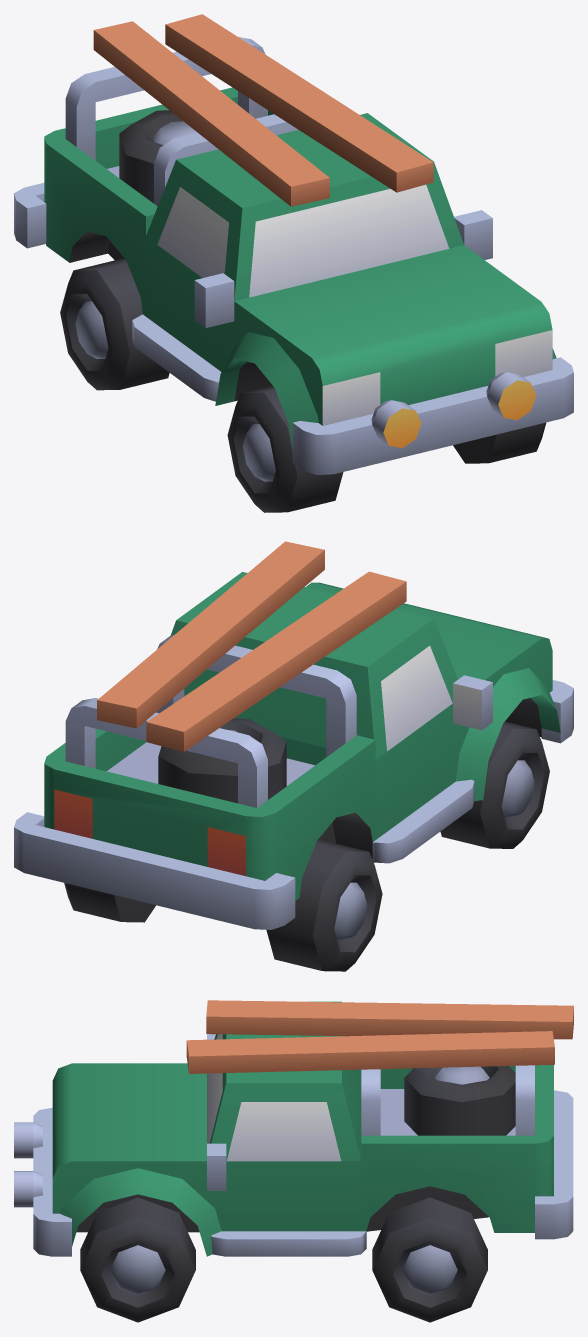
File: truck.glb
3 renders of one model, top to bottom at view 1: azimuth 30°, elevation 25°; view 2: azimuth 150°, elevation 25°; view 3: azimuth 270°, elevation 25°, orthographic. The views are drawn at different scales.
Visible parts, largest first — view 1: underside; view 2: underside; view 3: underside.
Part boxes in pixels (x1,y1,x2,y2): underside: (14, 14, 573, 512); underside: (14, 541, 573, 971); underside: (14, 1000, 573, 1322).
Size of the model in its own units: 1.5 by 1.4 by 2.9.
Materials: 1 (1 with a texture image).
